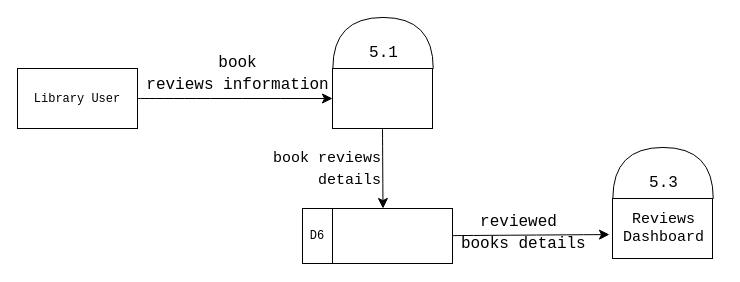
Image size: 740x282. Some labels were removed from this diagram. Each missing label, with the box of its shape:
Evaluations: (332, 208, 452, 264)
Process Reviews: (332, 68, 432, 128)
